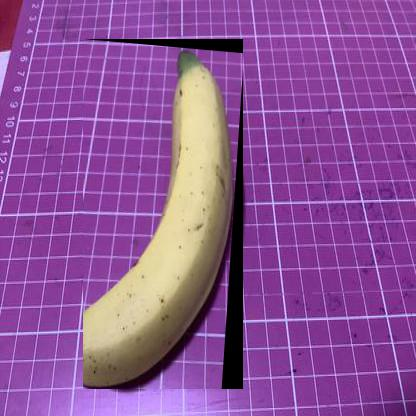bananarotation: (83, 39, 244, 390)
